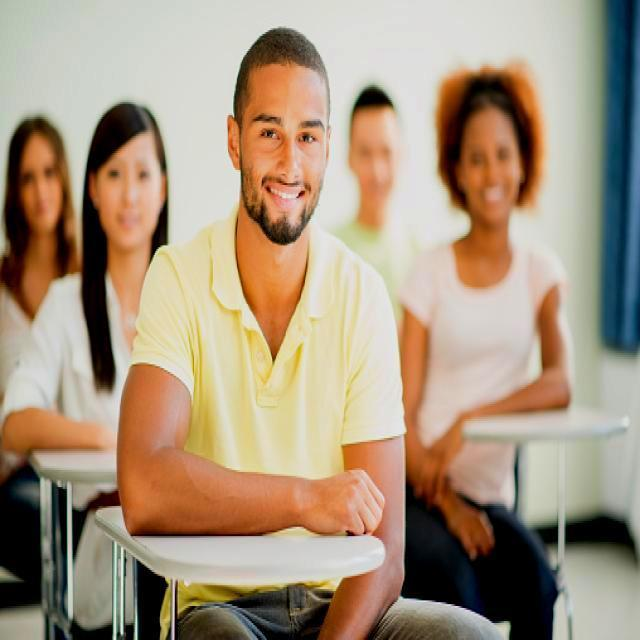Looking forward: (242, 62, 329, 245), (99, 126, 159, 253), (459, 108, 521, 224), (18, 134, 61, 232)
